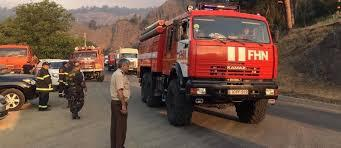Fire-engine: (138, 6, 283, 125)
